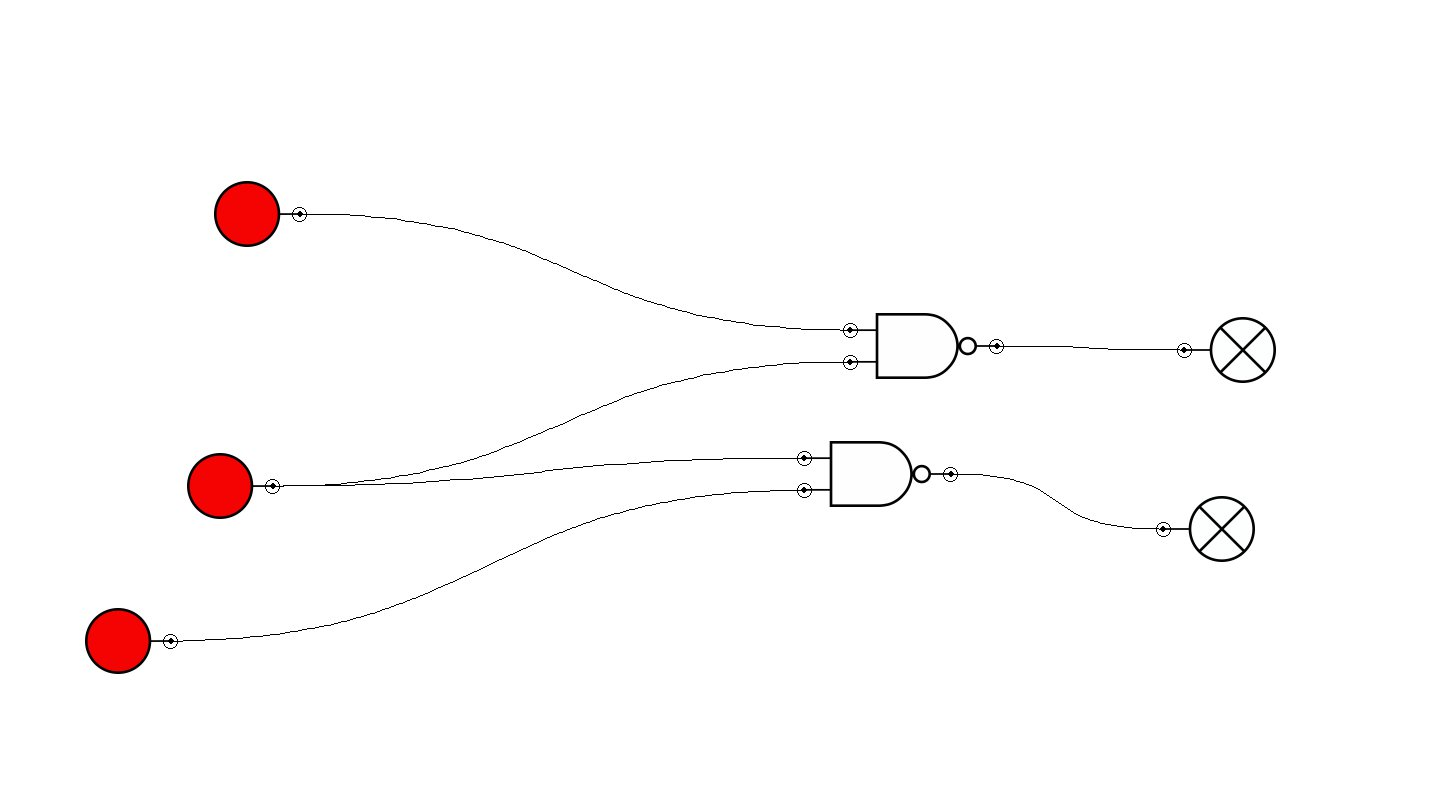bulb: (1177, 317, 1276, 383), (1156, 496, 1255, 562)
nand: (843, 313, 1004, 379), (797, 441, 958, 507)
switch_False: (214, 181, 307, 247), (187, 453, 280, 519), (85, 608, 178, 674)
